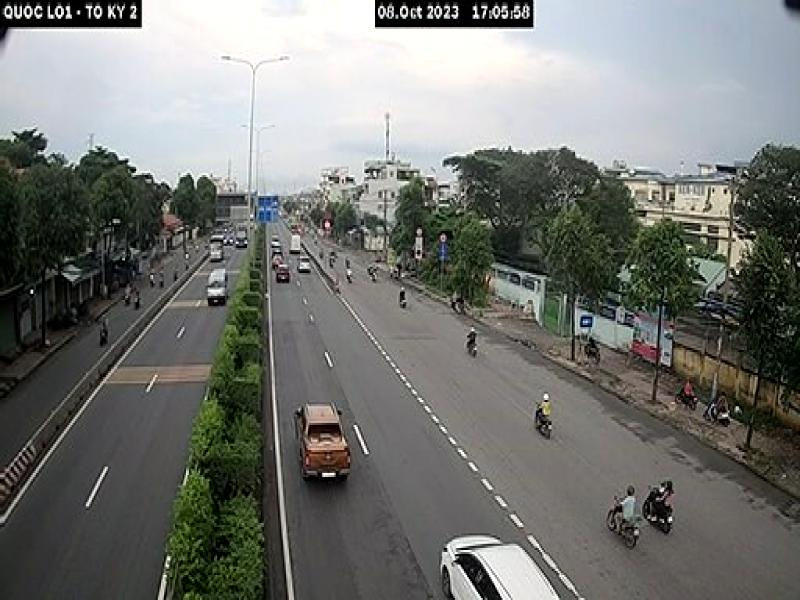car: (441, 531, 561, 600), (289, 399, 353, 489)
